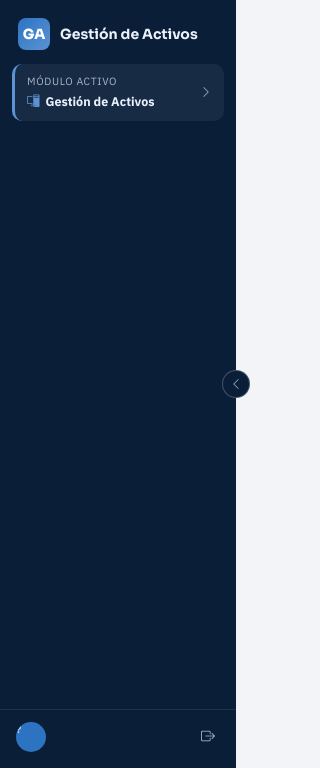
Test: El pie del menú › un clic en el usuario abre su menú con «Mi perfil»
Click the button named "Menú de".
click(102, 737)  # box x1=12 y1=718 x2=191 y2=756
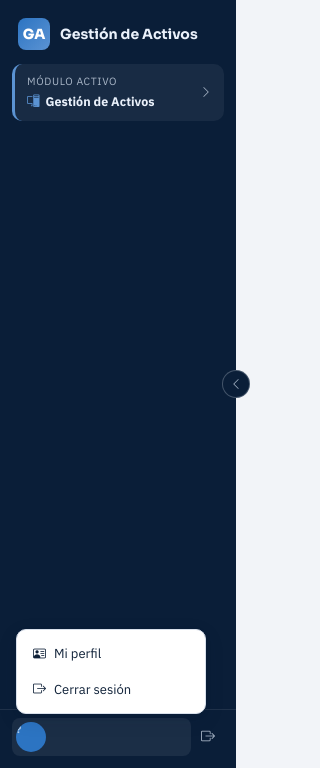
Click the link "Mi perfil".
click(67, 654)  # box x1=33 y1=644 x2=101 y2=664
(page scrolled)
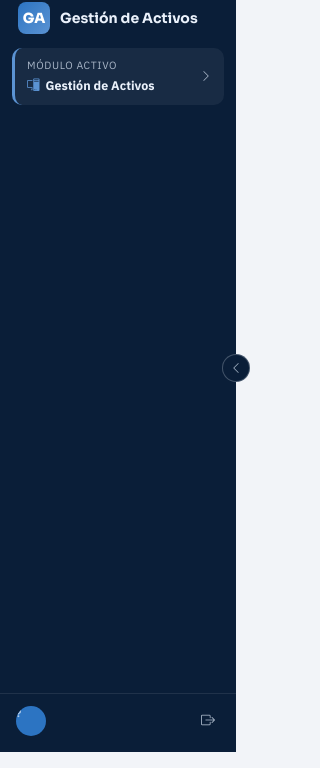
Now the text "Ruta: /admin/perfil" is shown, box x1=0 y1=732 x2=119 y2=750
